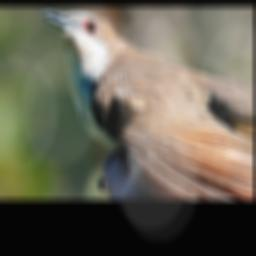Cuckoo: (41, 11, 254, 199)
